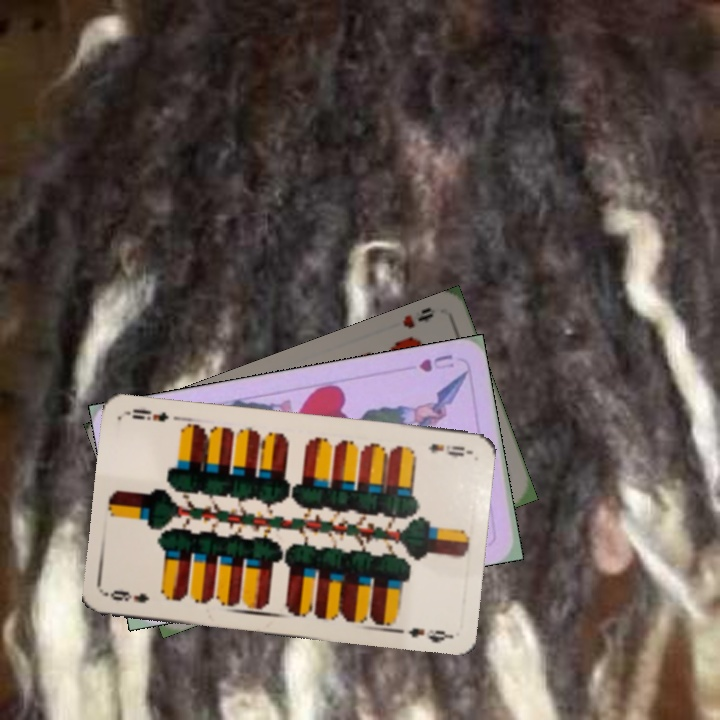E9: (423, 440, 472, 459), (106, 586, 151, 606)
H9: (398, 303, 437, 331)
HU: (415, 350, 457, 375)
